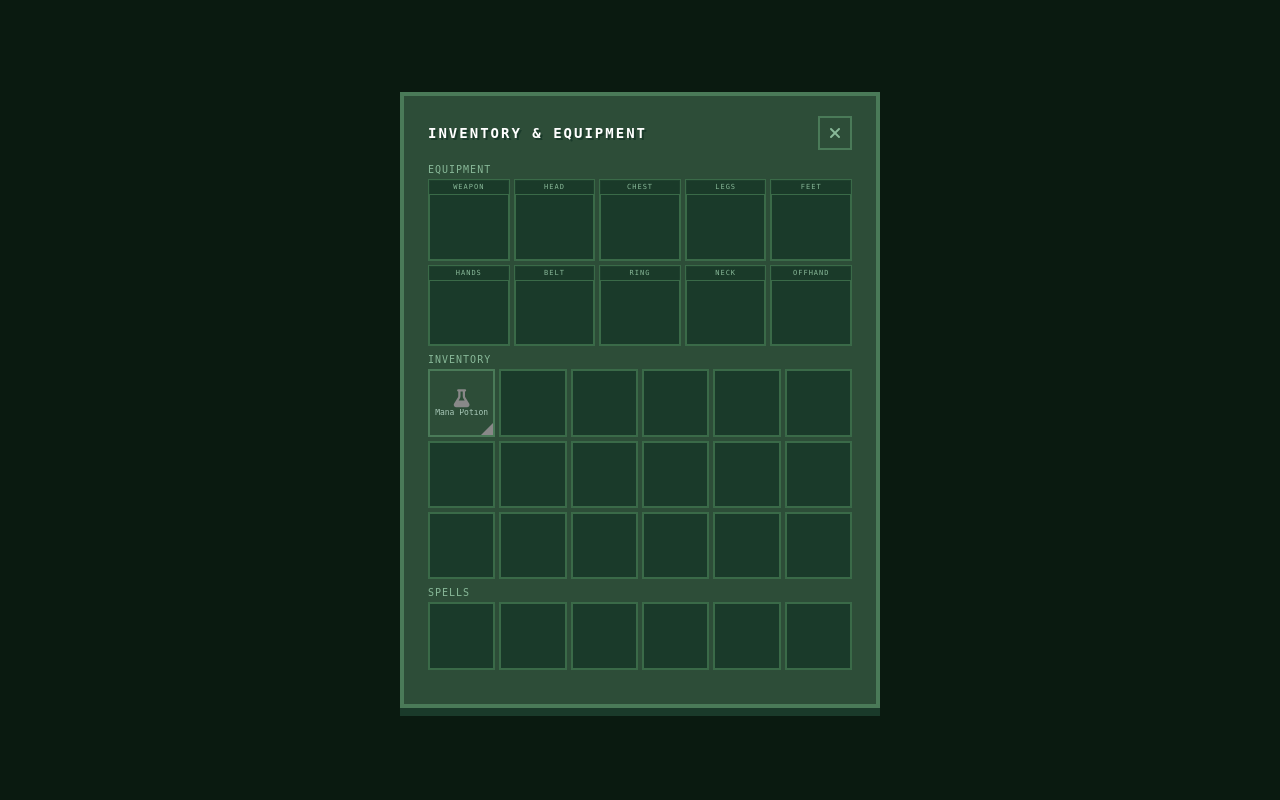
Test: InventoryDialog › consume confirmation dialog › shows mana stat in consume dialog
What coordinates should you click on to do the following:
click the element showing "Mana Potion"
I would click on:
 (462, 403)
Its box is [428,369,495,437].
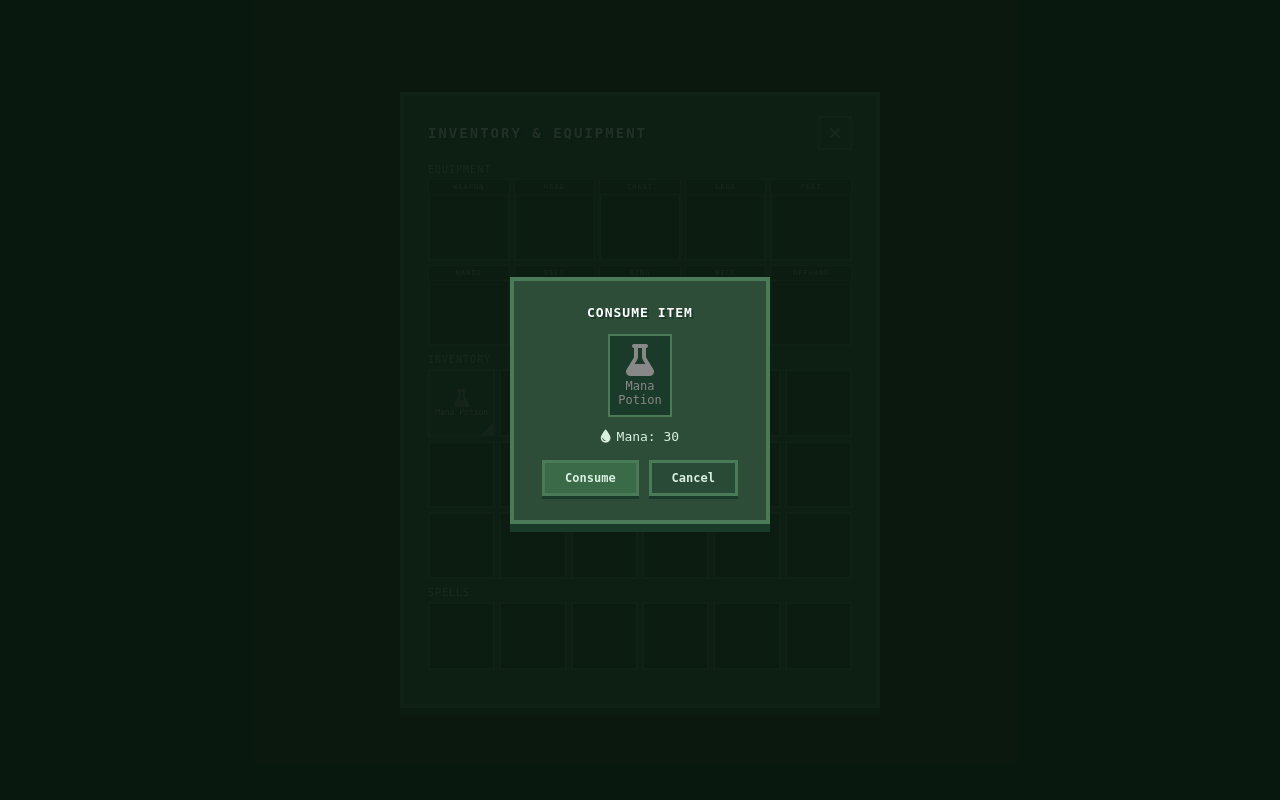
Now the text "Mana: 30" is shown, box [601,428,679,444]
